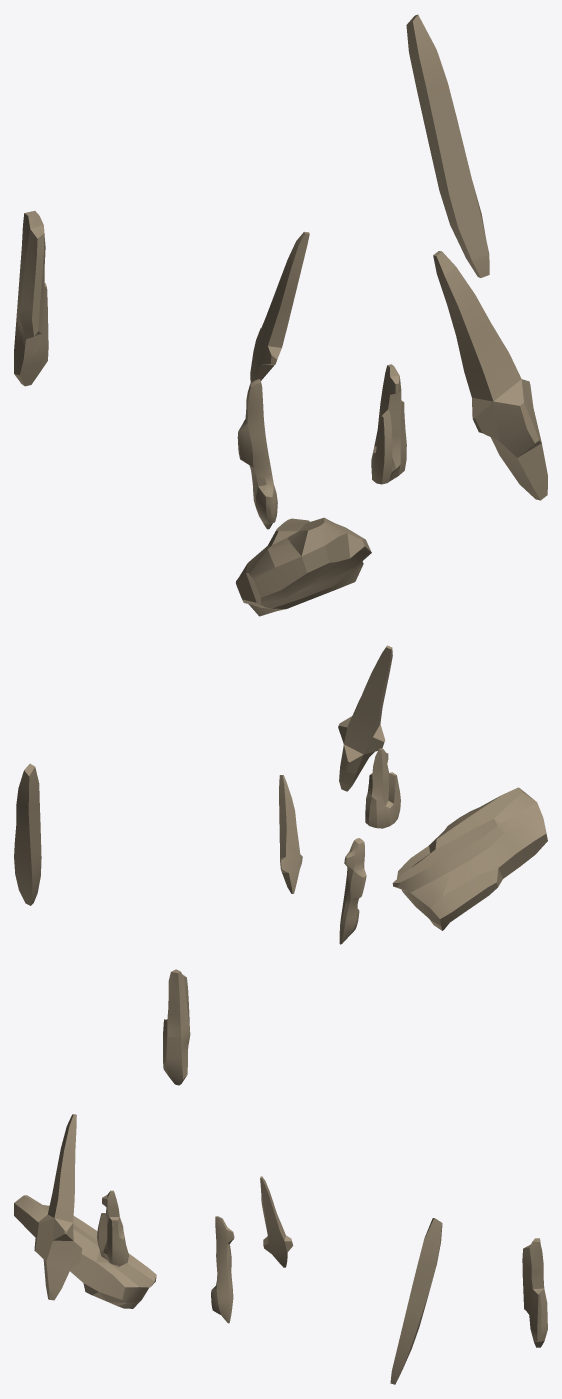
Rendered from Rock_03.glb.
3 renders of one model, top to bottom at view 1: azimuth 30°, elevation 25°; view 2: azimuth 150°, elevation 25°; view 3: azimuth 270°, elevation 25°, orthographic. The views are drawn at different scales.
Parts seen in each view (by area): view 1: rock.03; view 2: rock.03; view 3: rock.03.
Part boxes in pixels (x1,y1,x2,y2): rock.03: (14, 14, 547, 616); rock.03: (14, 645, 547, 1085); rock.03: (14, 1114, 547, 1384).
Size of what is drawn, in the model's own units: 50.04 by 35.86 by 70.34.
